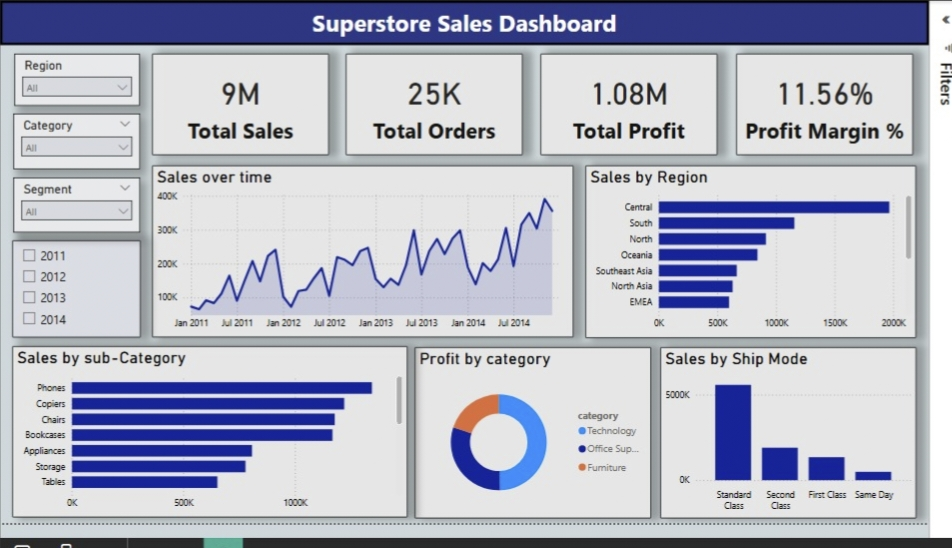

This screenshot's page, from the dashboard's own definition file:
{"tool":"powerbi","page":{"name":"Page 1","canvas":[1280,720],"ordinal":0},"visuals":[{"type":"textbox","box":[0,0,1280,60.6],"z":0},{"type":"card","fields":{"Values":["superStore_salesReport.Total Sales"]},"box":[209.2,73.4,243.8,139.9],"z":1000},{"type":"card","fields":{"Values":["superStore_salesReport.Total Orders"]},"box":[476.5,73.4,243.8,139.9],"z":2000},{"type":"card","fields":{"Values":["superStore_salesReport.Profit Margin %"]},"box":[1014,73.4,243.8,139.9],"z":3000},{"type":"card","fields":{"Values":["superStore_salesReport.Total Profit"]},"box":[745.3,73.4,243.8,139.9],"z":4000},{"type":"lineChart","title":"Sales over time","fields":{"Y":["superStore_salesReport.Total Sales"],"Category":["superStore_salesReport.order_date.Variation.Date Hierarchy.Year","superStore_salesReport.order_date.Variation.Date Hierarchy.Month"]},"box":[208.8,227.4,580.6,237.4],"z":5000},{"type":"barChart","title":"Sales by Region","fields":{"Category":["superStore_salesReport.region"],"Y":["superStore_salesReport.Total Sales"]},"box":[806.9,226.9,456.5,237.7],"z":6000},{"type":"donutChart","title":"Profit by category","fields":{"Y":["superStore_salesReport.Total Profit"],"Category":["superStore_salesReport.category"]},"box":[570.6,478.2,326,236.4],"z":7000},{"type":"barChart","title":"Sales by sub-Category","fields":{"Category":["superStore_salesReport.sub_category"],"Y":["superStore_salesReport.Total Sales"]},"box":[16.3,476.8,544.8,236.4],"z":8000},{"type":"columnChart","title":"Sales by Ship Mode","fields":{"Y":["superStore_salesReport.Total Sales"],"Category":["superStore_salesReport.ship_mode"]},"box":[910.2,478.2,353.2,236.4],"z":9000},{"type":"slicer","fields":{"Values":["superStore_salesReport.order_date.Variation.Date Hierarchy.Year"]},"box":[16.3,330.1,176.6,134.5],"z":10000},{"type":"slicer","fields":{"Values":["superStore_salesReport.region"]},"box":[19,73.4,172.5,72],"z":11000},{"type":"slicer","fields":{"Values":["superStore_salesReport.category"]},"box":[17.7,154.9,175.2,77.4],"z":12000},{"type":"slicer","fields":{"Values":["superStore_salesReport.segment"]},"box":[17.7,243.2,175.2,76.1],"z":13000}]}

Visuals, with their boxes in screenshot pixels (x1, y1, x2, y2):
textbox: (0,0,936,42)
card - superStore_salesReport.Total Sales: (151,51,330,154)
card - superStore_salesReport.Total Orders: (347,51,526,154)
card - superStore_salesReport.Profit Margin %: (741,51,920,154)
card - superStore_salesReport.Total Profit: (544,51,723,154)
"Sales over time" lineChart: (151,164,577,338)
"Sales by Region" barChart: (589,164,924,338)
"Profit by category" donutChart: (416,348,655,522)
"Sales by sub-Category" barChart: (9,347,409,521)
"Sales by Ship Mode" columnChart: (665,348,924,522)
slicer - superStore_salesReport.order_date.Variation.Date Hierarchy.Year: (9,240,139,338)
slicer - superStore_salesReport.region: (11,51,138,104)
slicer - superStore_salesReport.category: (11,111,139,168)
slicer - superStore_salesReport.segment: (11,176,139,232)
